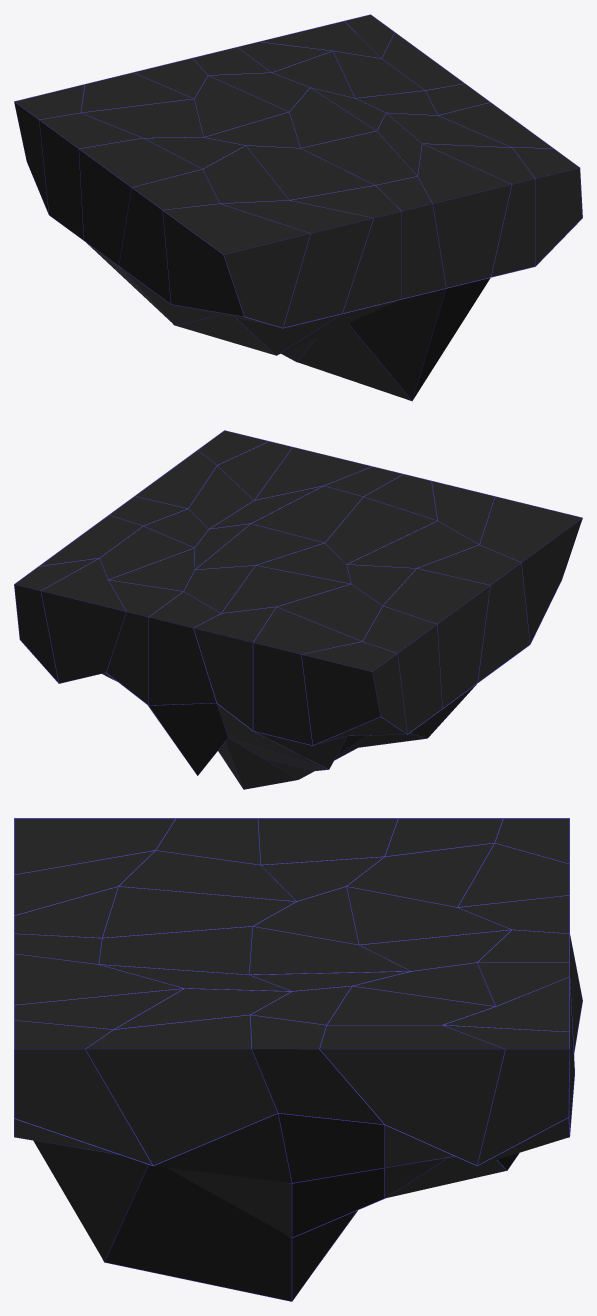
File: retro platform.fbx
3 renders of one model, top to bottom at view 1: azimuth 30°, elevation 25°; view 2: azimuth 150°, elevation 25°; view 3: azimuth 270°, elevation 25°, orthographic. The views are drawn at different scales.
Parts seen in each view (by area): view 1: Cube; view 2: Cube; view 3: Cube.
Boxes of the visible parts, x1,y1,x2,y2 form: Cube: (14, 14, 582, 401); Cube: (14, 430, 582, 789); Cube: (14, 818, 582, 1301).
Size of the model in its own units: 1347 by 898 by 1391.
